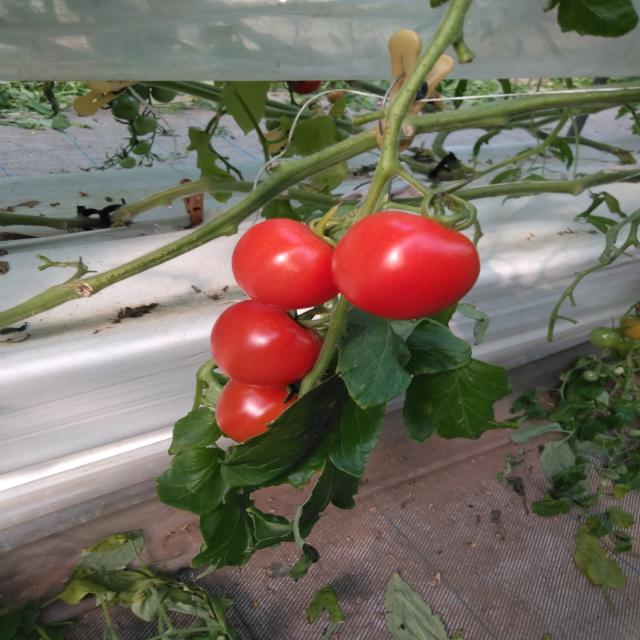c-riped: (330, 210, 480, 320), (210, 299, 325, 388), (231, 218, 341, 310), (215, 379, 298, 443)
